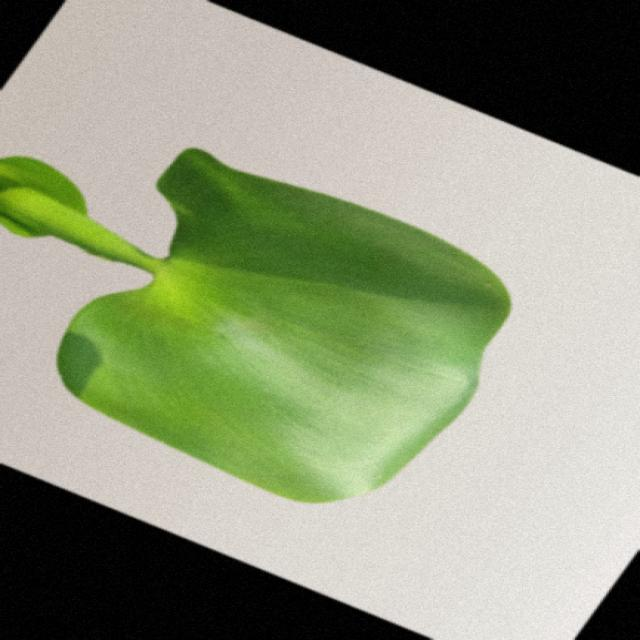daun sehat: (2, 149, 510, 502)
